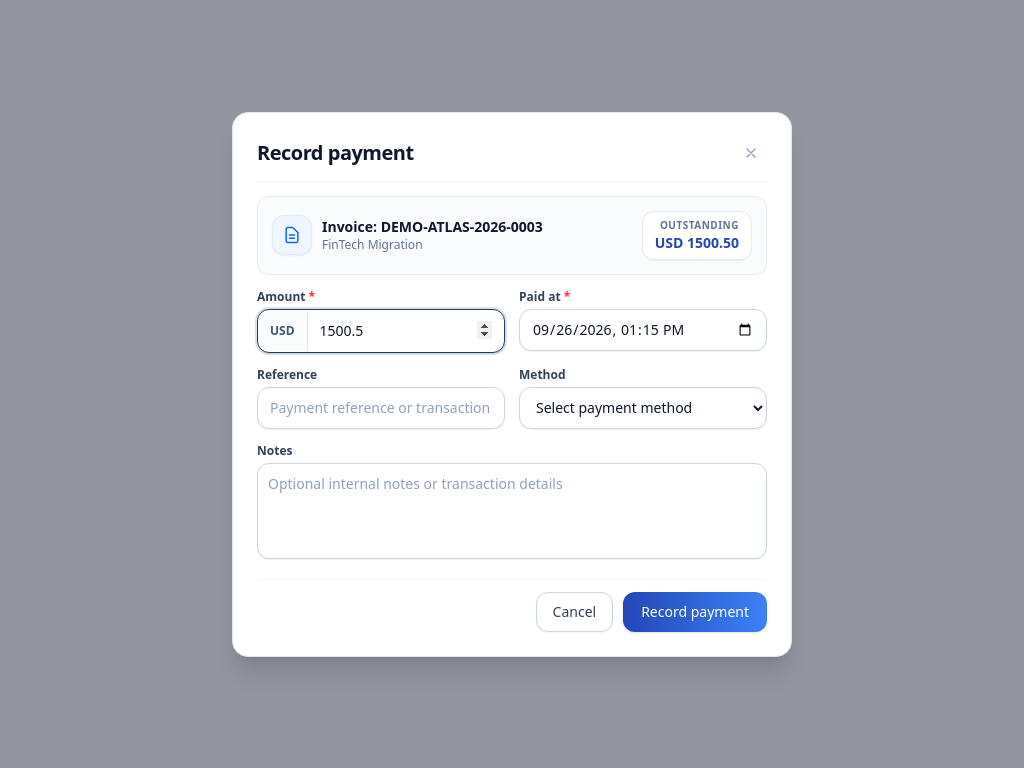
Test: PaymentRecordModal › shows error when amount has more than 2 decimal places
This screenshot has width=1024, height=768.
Replace the text in the number field labelled "Amount *" with "100.555". click: [406, 330]
box: [308, 310, 504, 352]
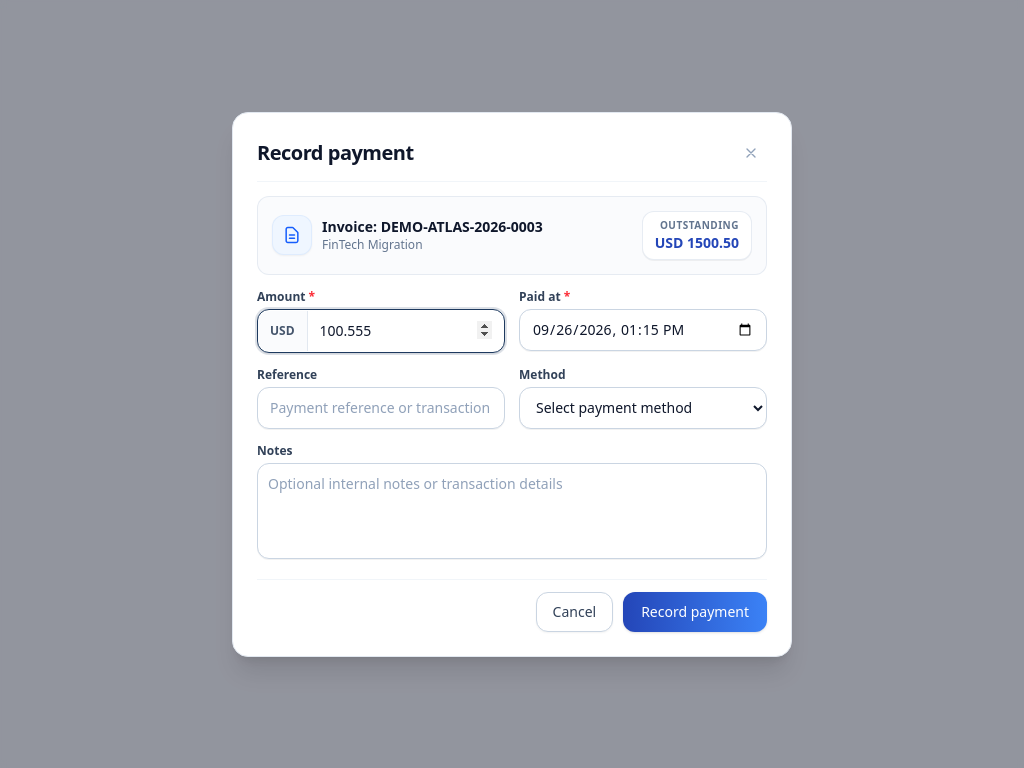
Click the button "Record payment". click: [695, 612]
box: [623, 592, 767, 632]
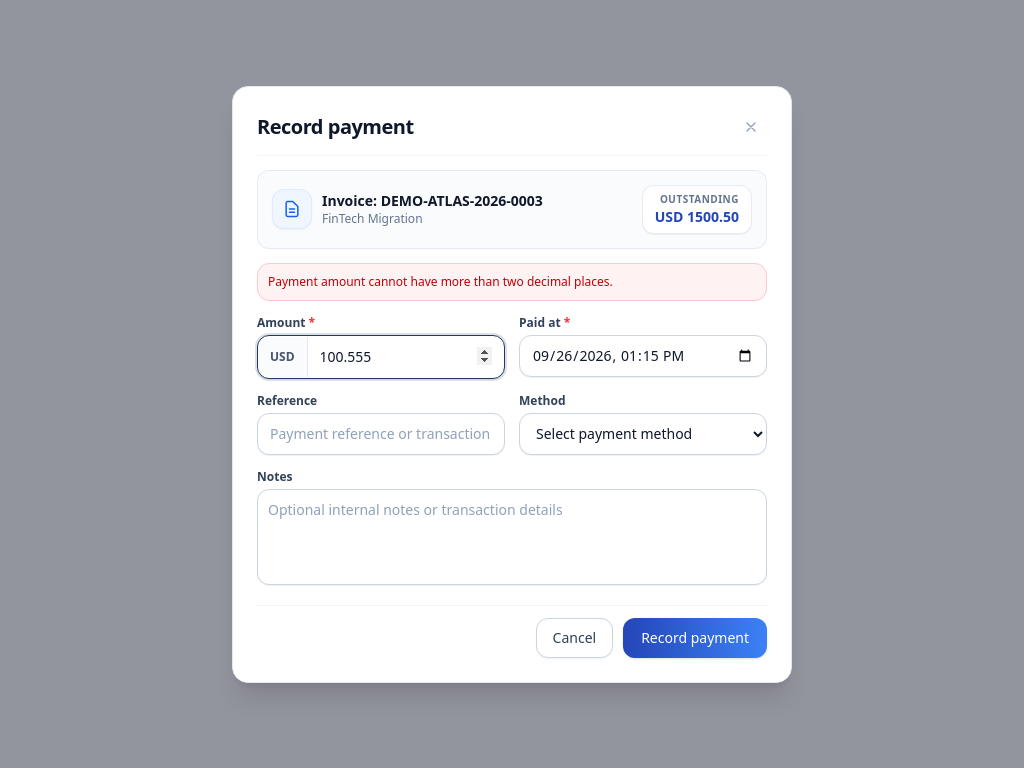
Result: the message reads "Payment amount cannot have more than two decimal places." at [268, 272, 613, 290]
